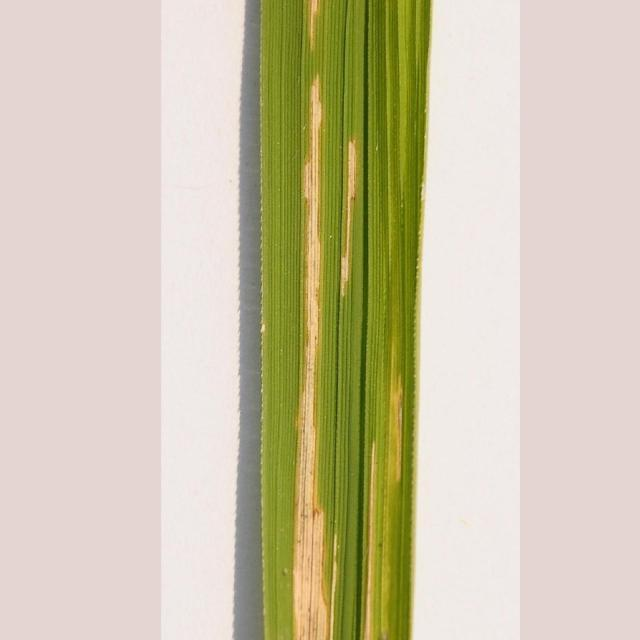Bacterial_Leaf_Blight: (269, 0, 401, 640)
